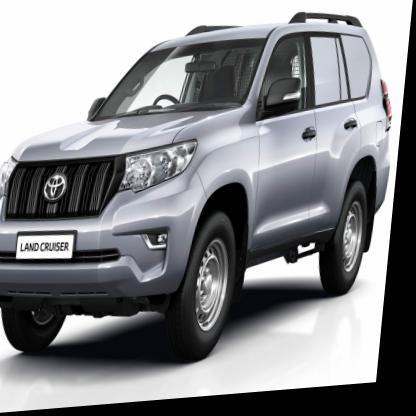Car: (0, 10, 407, 381)
